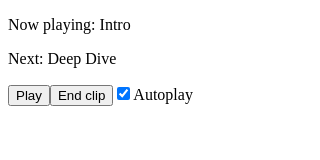
Test: Autoplay › advances to next clip when ended (autoplay on)
Click the button with test id "ended": click(82, 96) [50,85,113,106]
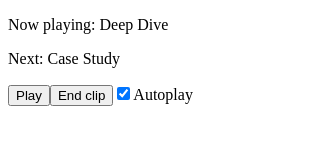
expect the text with test id "current" shows "Deep Dive": met, box [100,16,168,33]
